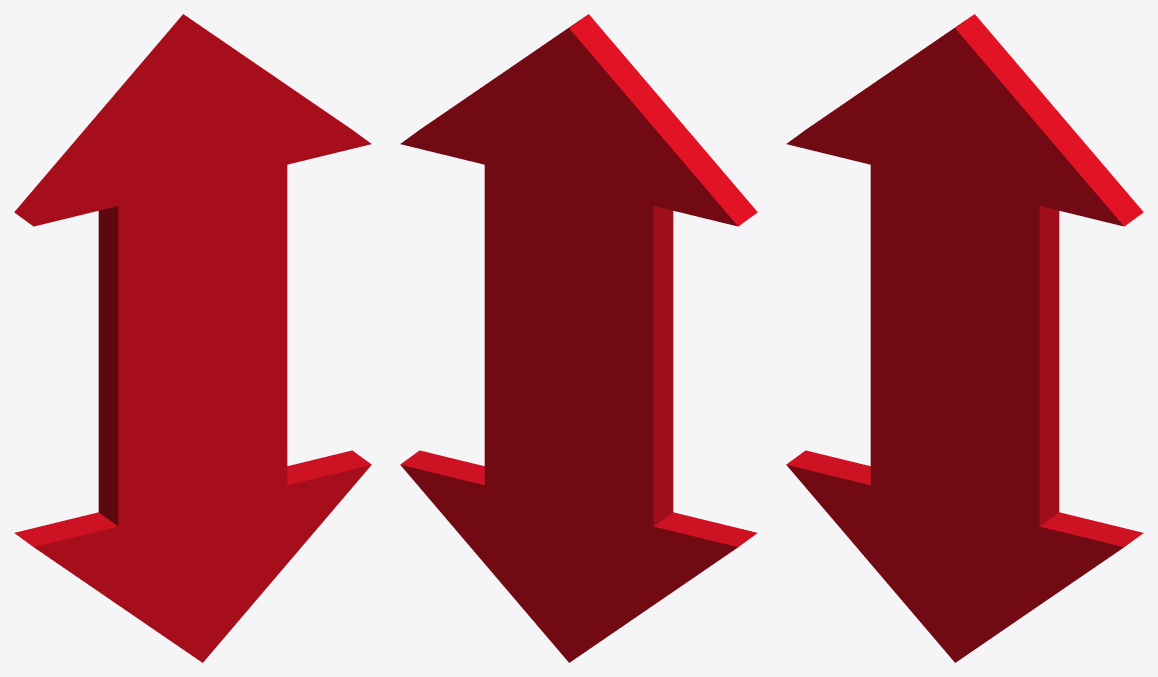
File: move-arrow.glb
The picture shows the model from 3 angles, left to right: view 1: azimuth 30°, elevation 25°; view 2: azimuth 150°, elevation 25°; view 3: azimuth 330°, elevation 25°; orthographic projection.
Visible parts, largest first — view 1: Arrow; view 2: Arrow; view 3: Arrow.
Part boxes in pixels (x1,y1,x2,y2): Arrow: (14,14,371,662); Arrow: (400,14,757,662); Arrow: (786,14,1143,662).
Bounding box in the file's own units: 2.4 × 4.3 × 0.24.
